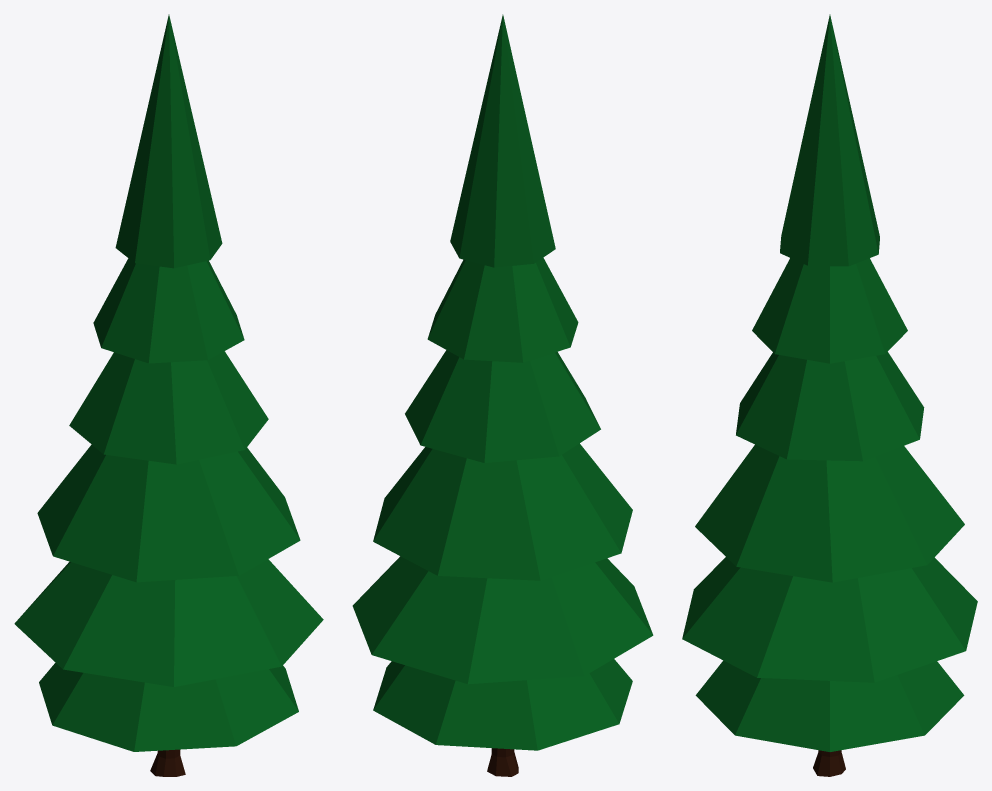
File: lowpolyTree.fbx
The picture shows the model from 3 angles, left to right: view 1: azimuth 30°, elevation 25°; view 2: azimuth 150°, elevation 25°; view 3: azimuth 270°, elevation 25°; orthographic projection.
Parts seen in each view (by area): view 1: Cylinder; view 2: Cylinder; view 3: Cylinder.
Boxes of the visible parts, left/top/right/bottom form: Cylinder: left=14, top=14, right=323, bottom=776; Cylinder: left=352, top=14, right=653, bottom=776; Cylinder: left=682, top=14, right=977, bottom=776.
Bounding box in the file's own units: 711 × 2007 × 711.
